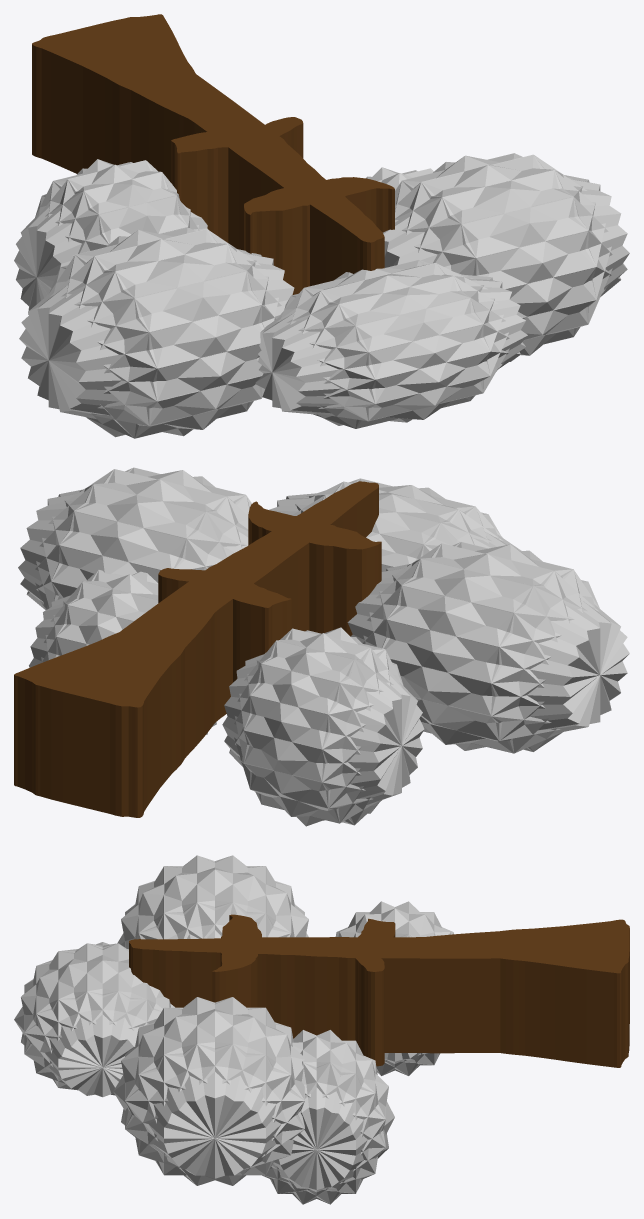
Rendered from arbol2.obj.
3 renders of one model, top to bottom at view 1: azimuth 30°, elevation 25°; view 2: azimuth 150°, elevation 25°; view 3: azimuth 270°, elevation 25°, orthographic. The views are drawn at different scales.
Parts seen in each view (by area): view 1: group_0_1206582, group_0_6306067; view 2: group_0_1206582, group_0_6306067; view 3: group_0_1206582, group_0_6306067.
Boxes of the visible parts, bbox=[...] form: group_0_1206582: bbox=[14, 153, 629, 438]; group_0_6306067: bbox=[32, 14, 394, 294]; group_0_1206582: bbox=[18, 467, 629, 826]; group_0_6306067: bbox=[14, 481, 381, 817]; group_0_1206582: bbox=[14, 855, 453, 1204]; group_0_6306067: bbox=[129, 914, 629, 1067].
Size of the model in its own units: 105 by 43 by 118.
